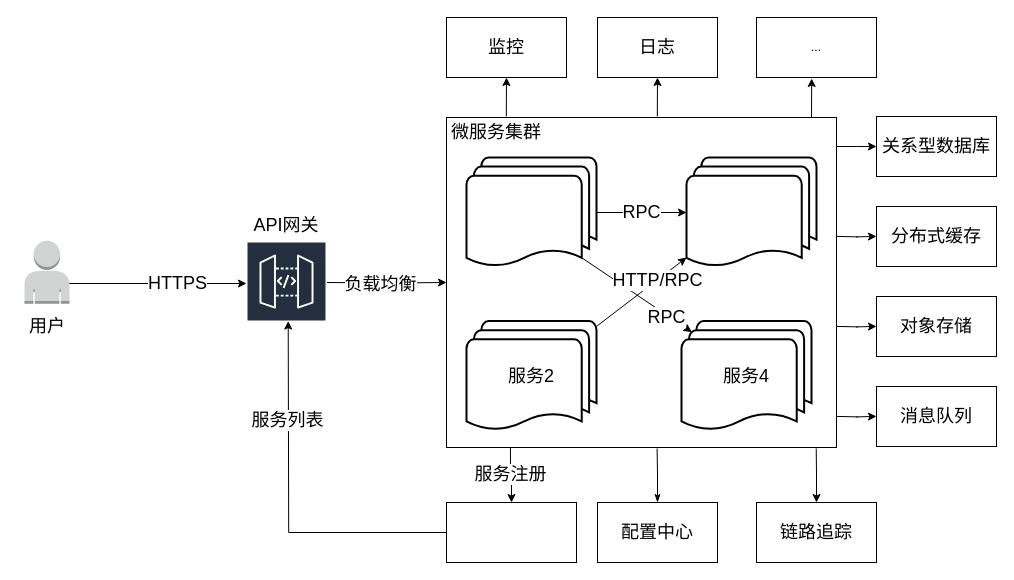
This 1014x580 diagram has some shape labels left out. Each missing label, with the centre of its shape:
"服务1" goes at (531,212).
"服务3" goes at (751,212).
"服务注册与发现" goes at (511,532).
